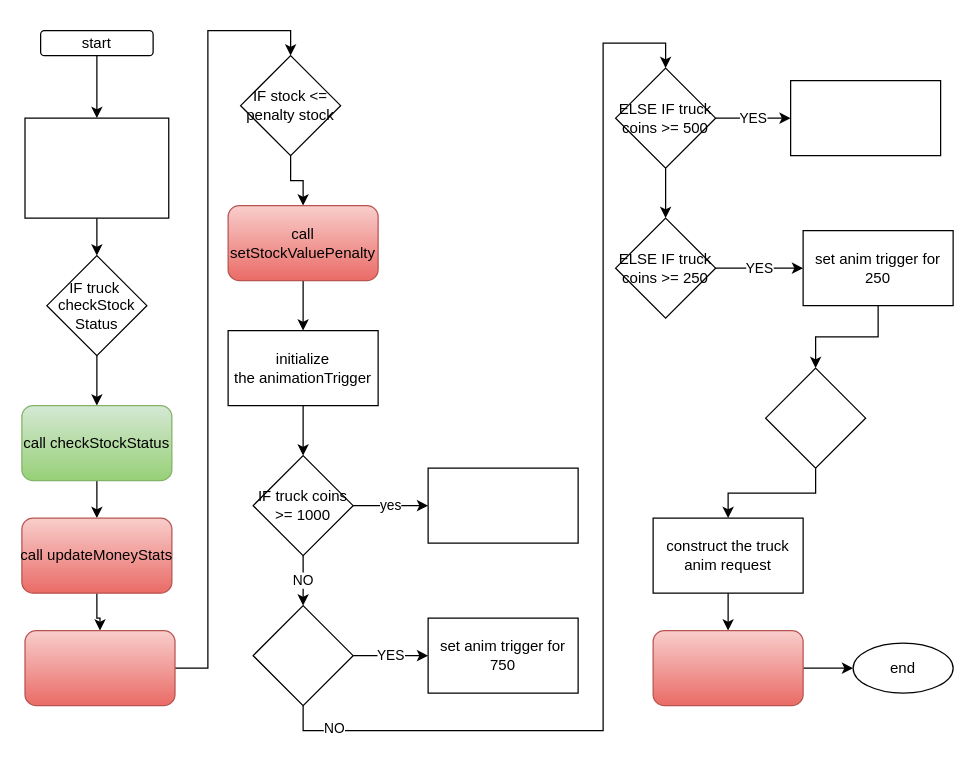
This 975x763 diagram has some shape labels left out. Here are the shapes that lost their labels. From the top down, the box of each, then its label:
(789, 79, 941, 156): set anim trigger for 500
(24, 117, 169, 218): Add the pop ticket increase the serviced agent count decrease the stock count
(764, 367, 866, 468): IF anim trigger not undefind
(427, 467, 578, 543): set anim trigger for 1000
(24, 629, 175, 706): call updatePeople Count
(252, 604, 353, 706): ELSE IF truck coins >= 750
(652, 629, 803, 706): call setAnimation
